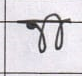i_matra: (47, 12, 64, 50)
